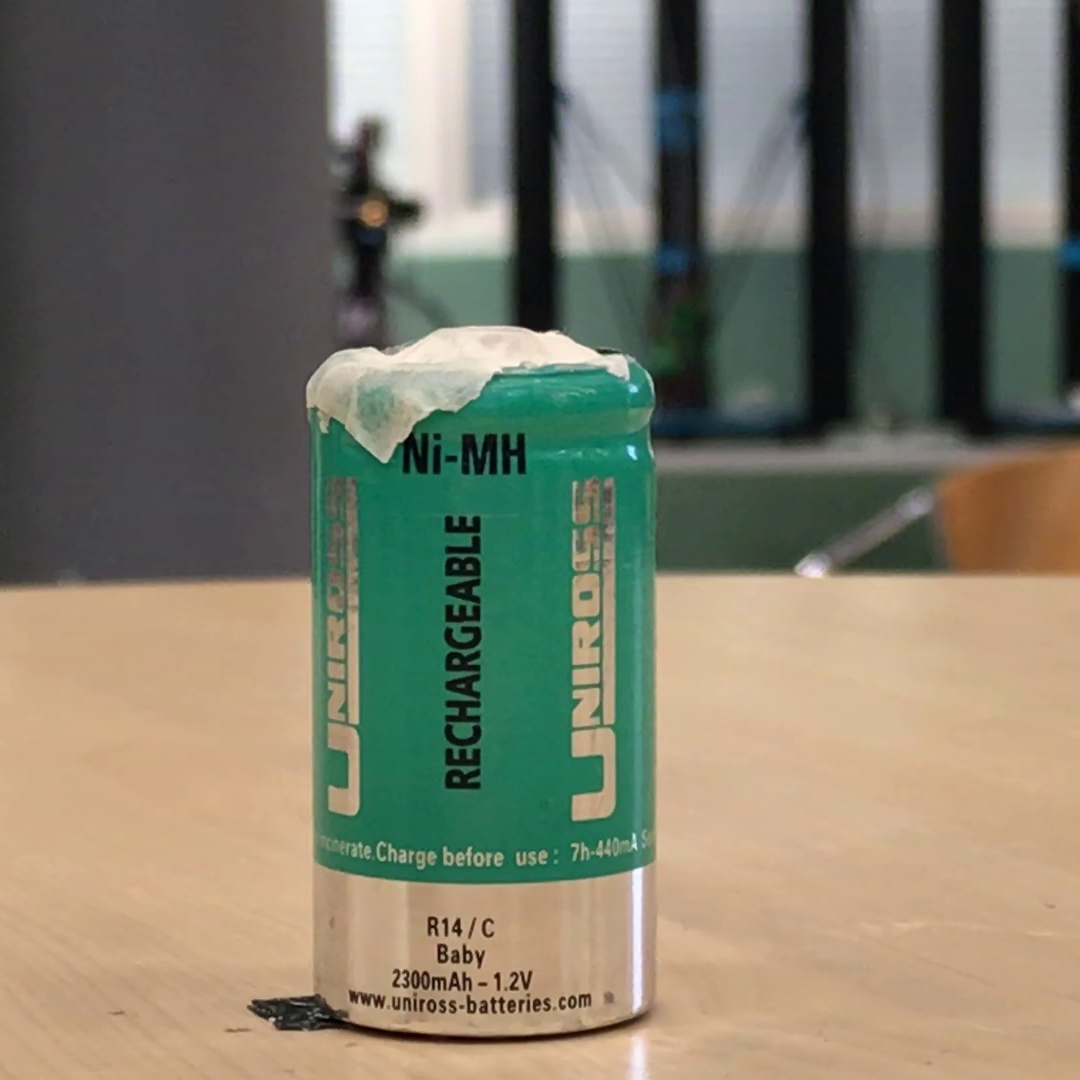keyword: (484, 960, 543, 1001)
